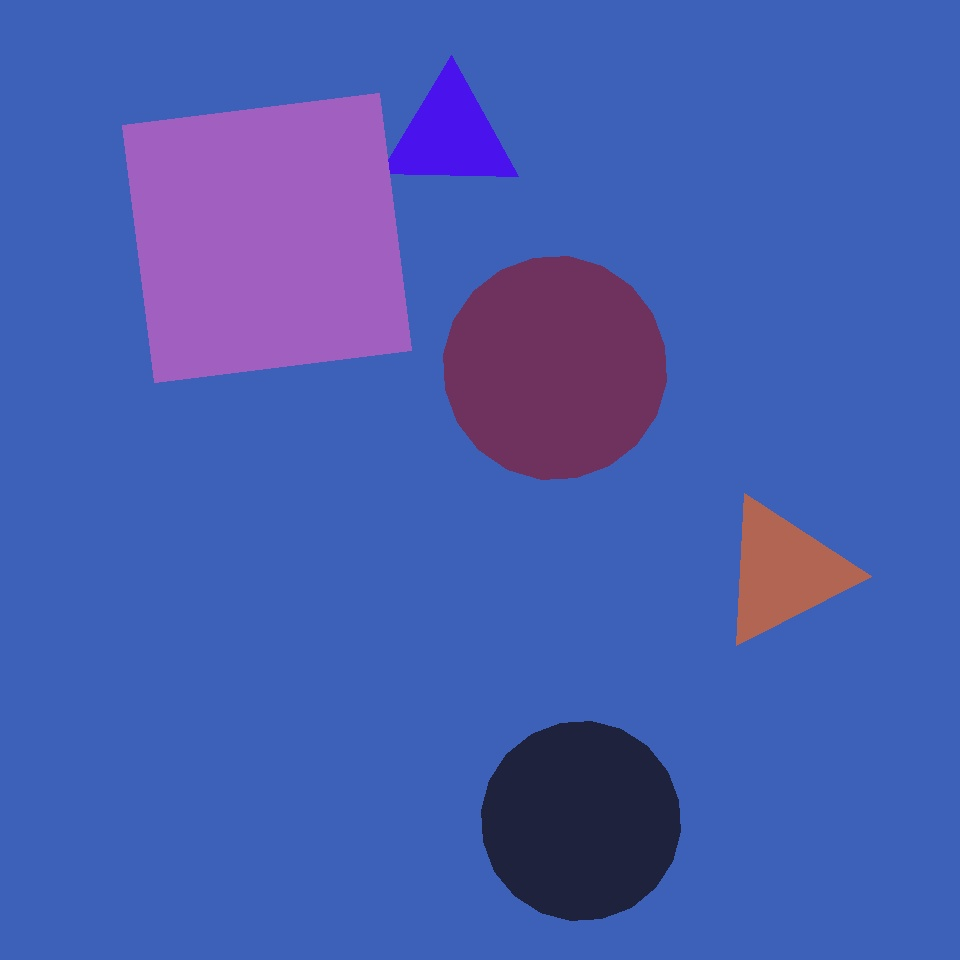circle: (87, 158, 316, 375), (716, 496, 852, 648), (381, 74, 519, 196), (519, 735, 602, 824)
square: (546, 492, 836, 782), (123, 94, 412, 382), (195, 339, 347, 491)
triangle: (444, 256, 666, 480), (482, 722, 680, 920), (842, 604, 948, 709)
